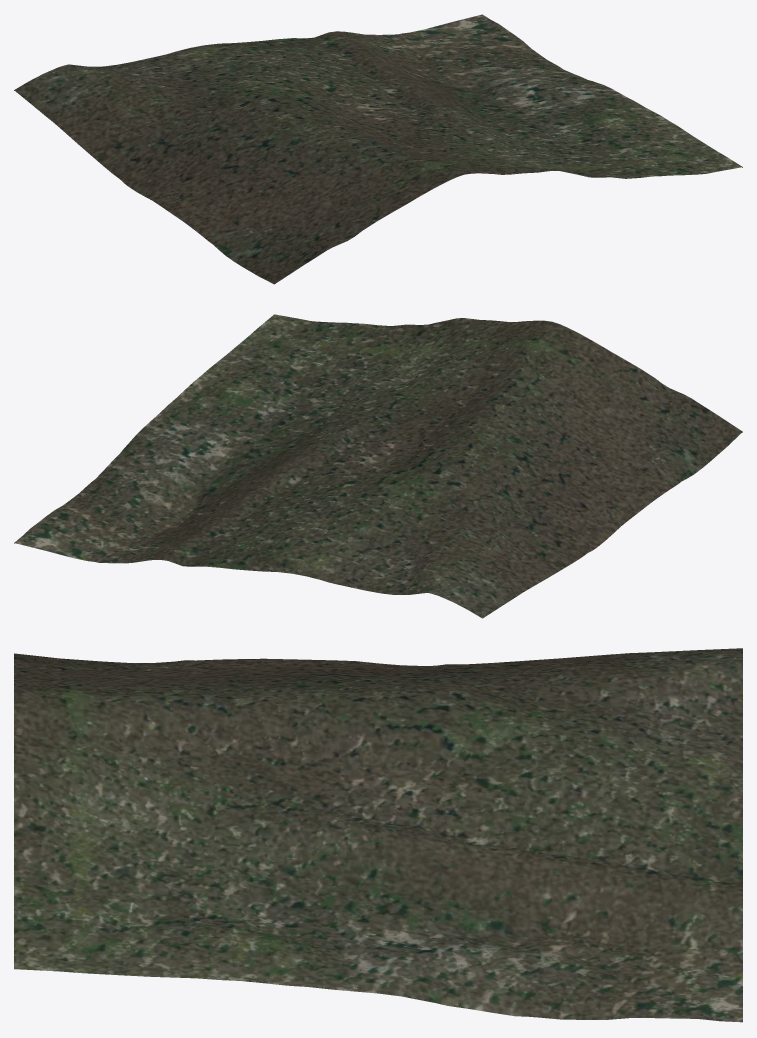
3 views of the same model, one above another, from view 1: azimuth 30°, elevation 25°; view 2: azimuth 150°, elevation 25°; view 3: azimuth 270°, elevation 25° (orthographic). The views are drawn at different scales.
Bounding box in the file's own units: 500 × 102 × 481.
Materials: 1 (1 with a texture image).
